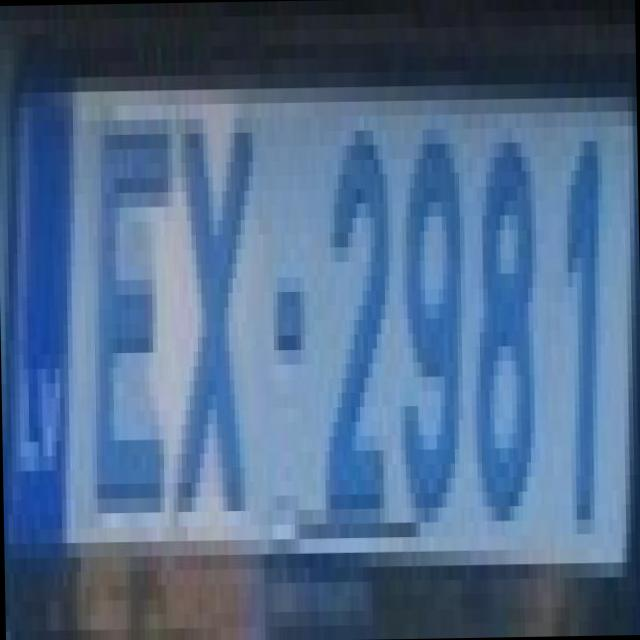1: (528, 82, 602, 505)
2: (282, 71, 406, 510)
8: (457, 98, 540, 507)
9: (381, 85, 468, 508)
E: (63, 75, 182, 499)
X: (144, 74, 262, 498)
